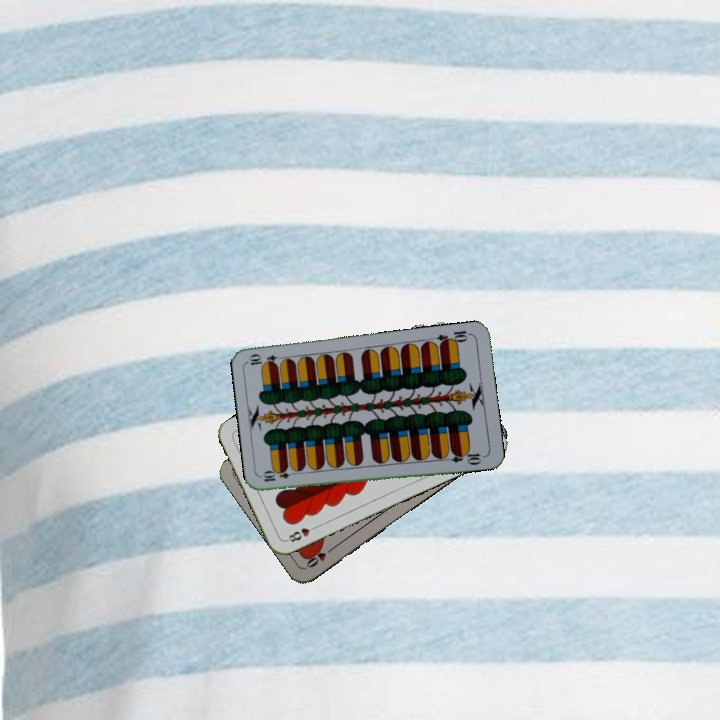E10: (433, 326, 473, 348), (259, 467, 300, 484)
H8: (282, 521, 320, 545)
HO: (302, 542, 338, 570)
